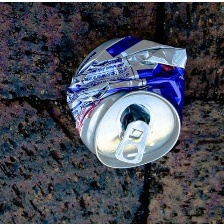can: (60, 31, 190, 171)
